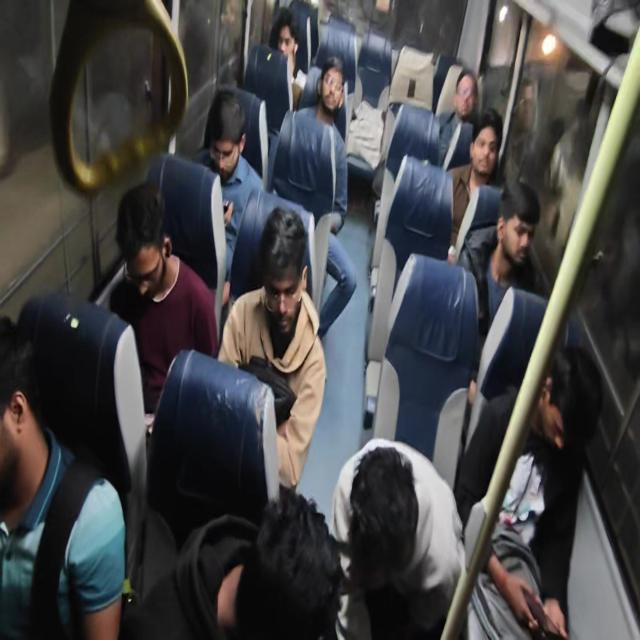person: (454, 342, 603, 639), (0, 315, 126, 639), (120, 484, 344, 639), (217, 205, 327, 492), (331, 437, 466, 638), (109, 181, 219, 421), (273, 55, 357, 336), (192, 89, 264, 302), (457, 178, 545, 336), (289, 56, 349, 232), (446, 107, 503, 258), (268, 8, 308, 110), (438, 67, 478, 168), (504, 74, 539, 180)
